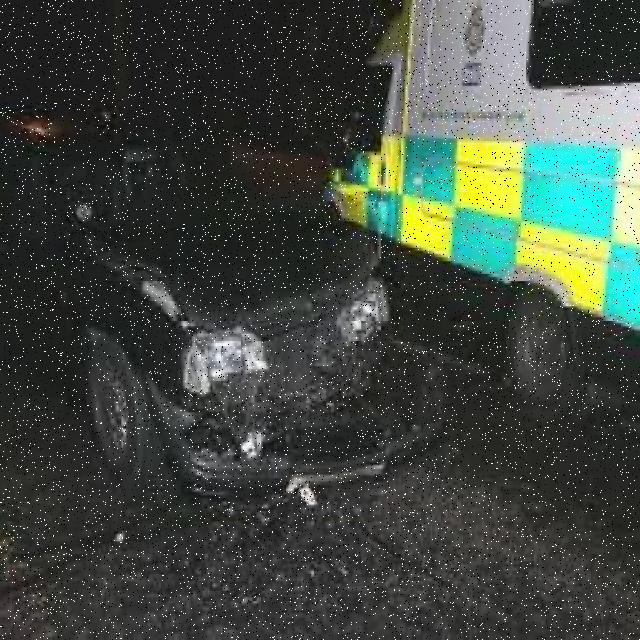damage: (128, 243, 445, 497)
